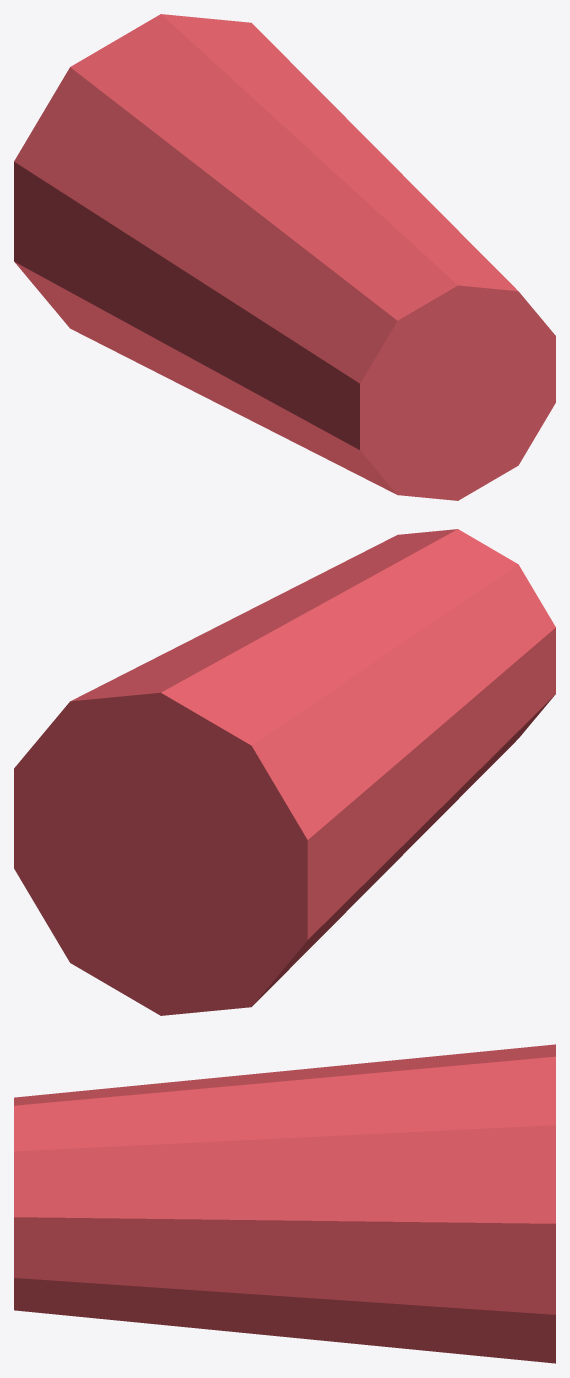
The model's file is piranha-plant.glb.
The picture shows the model from 3 angles, top to bottom: view 1: azimuth 30°, elevation 25°; view 2: azimuth 150°, elevation 25°; view 3: azimuth 270°, elevation 25°; orthographic projection. The views are drawn at different scales.
Visible parts, largest first — view 1: item; view 2: item; view 3: item.
Boxes of the visible parts, bbox=[...] form: item: bbox=[14, 14, 555, 500]; item: bbox=[14, 529, 555, 1015]; item: bbox=[14, 1044, 555, 1363].
Size of the model in its own units: 1.14 by 1.2 by 2.
